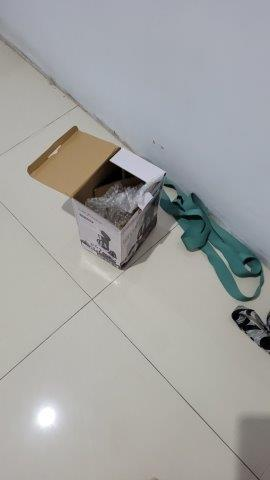kardus: (27, 125, 166, 270)
